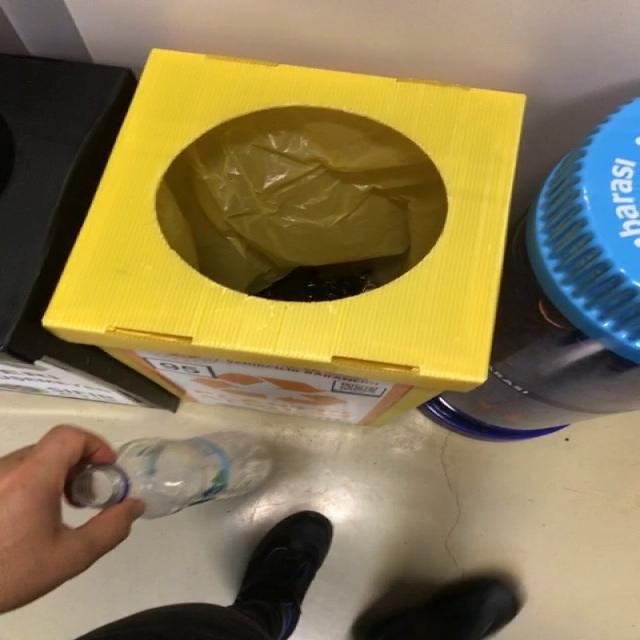plastic: (65, 433, 272, 518)
